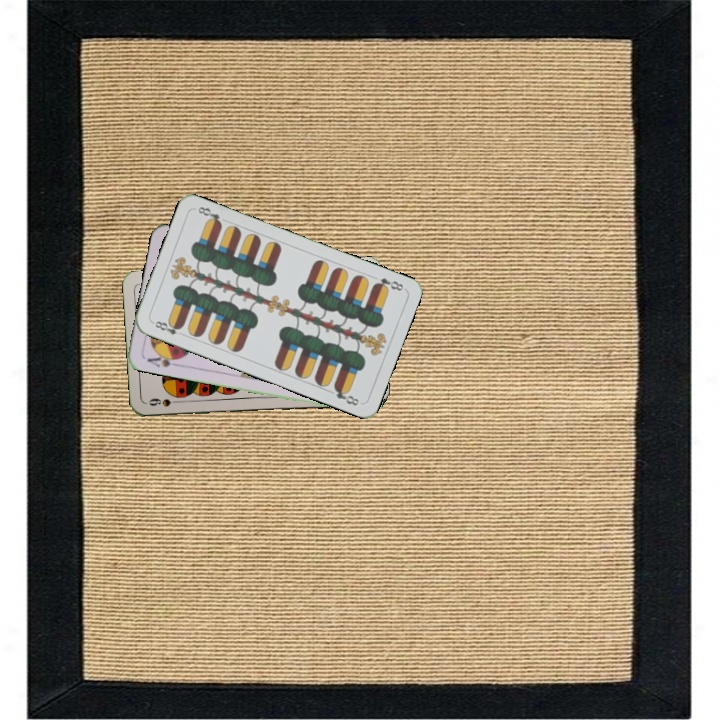E8: (148, 317, 187, 339), (369, 273, 406, 294)
S9: (144, 394, 185, 409)
SA: (143, 349, 183, 370)
